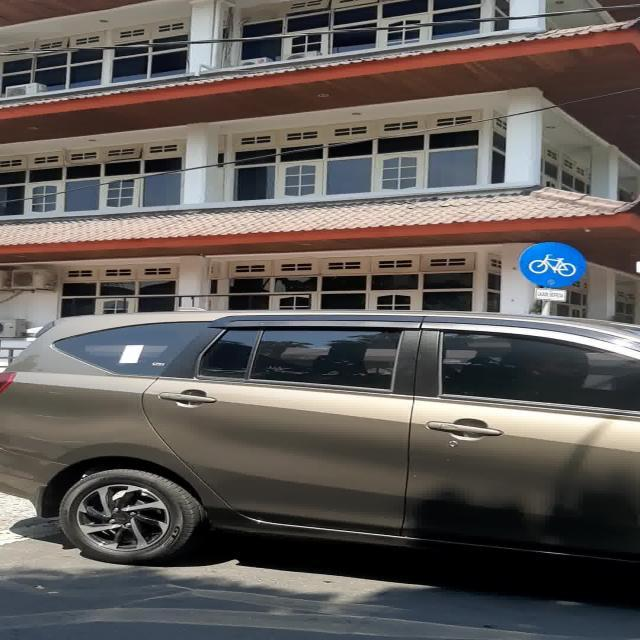Jalur Sepeda: (518, 241, 586, 288)
